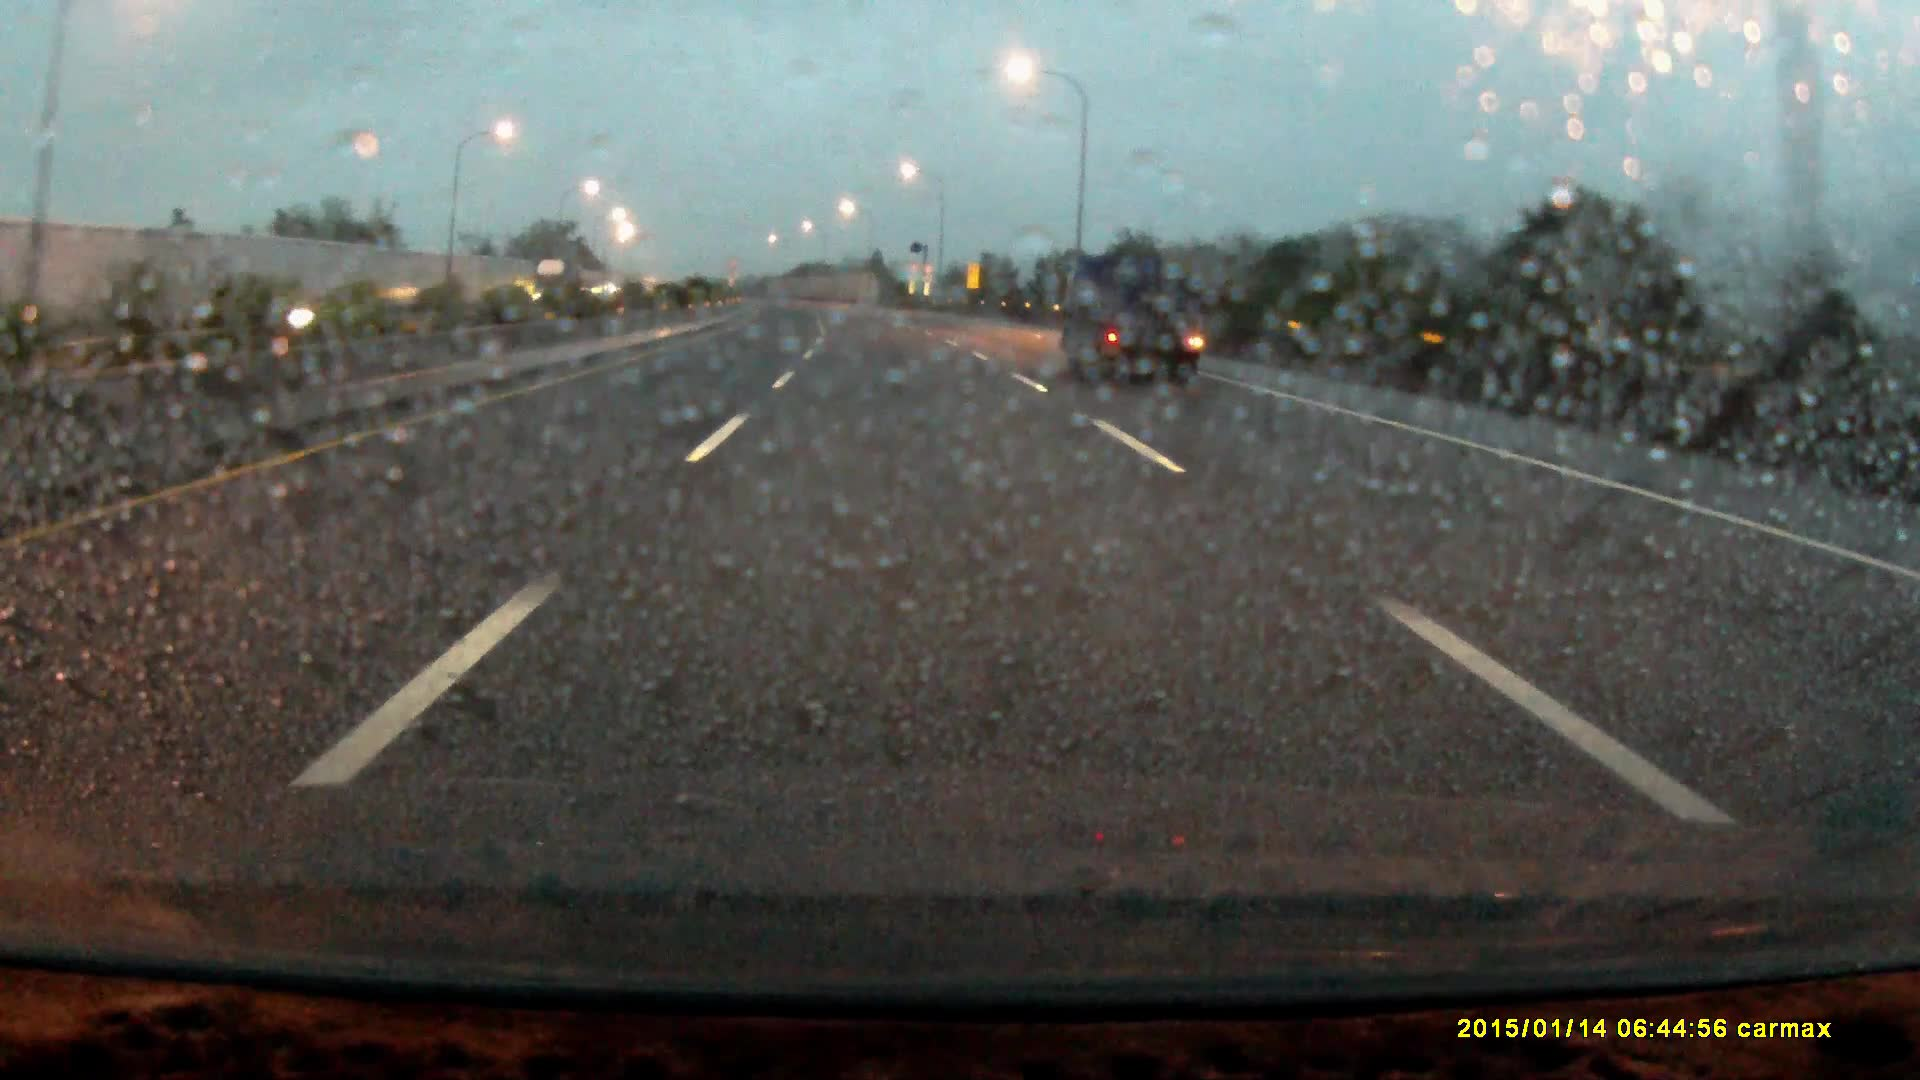vehicle: (1058, 255, 1203, 397), (535, 258, 579, 319)
